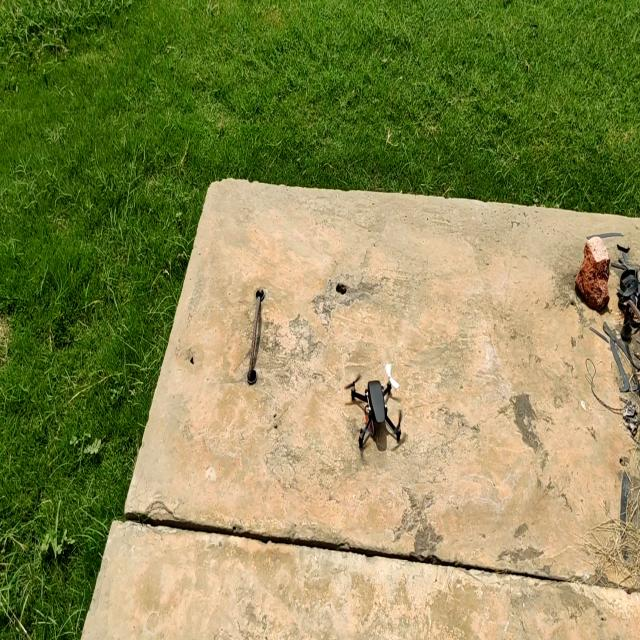drone: (338, 358, 422, 454)
